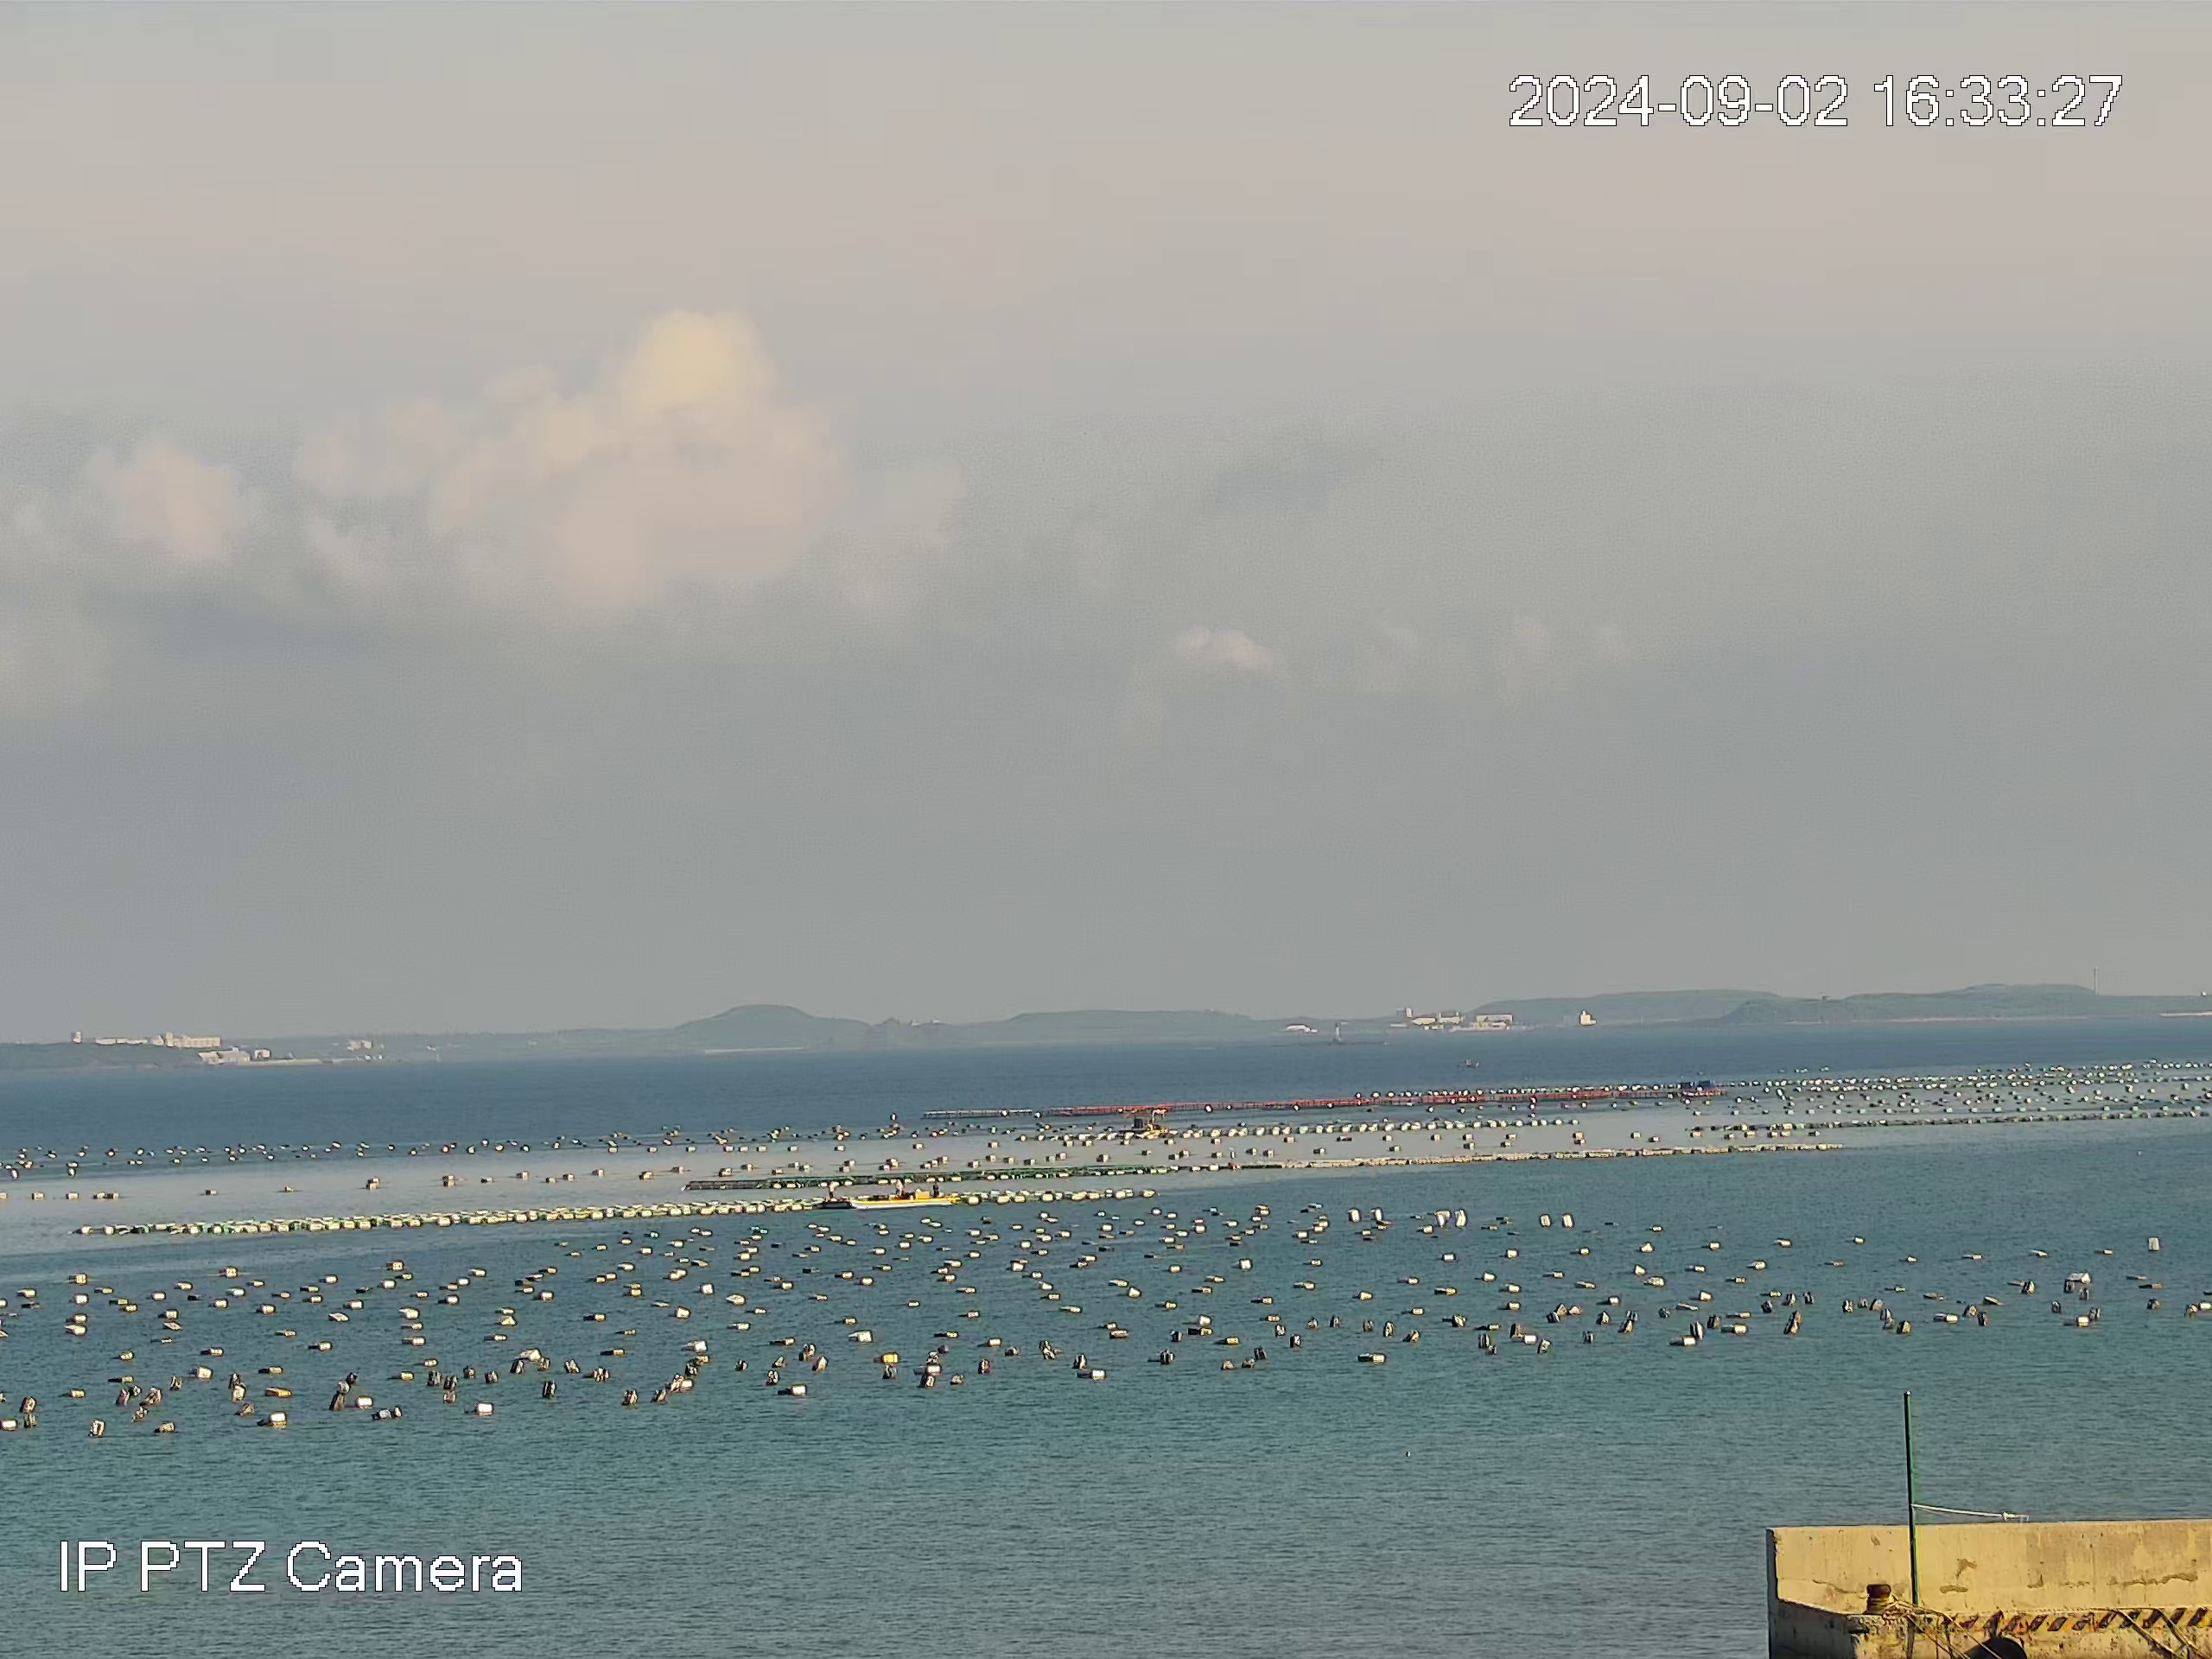boat: (848, 1178, 961, 1209)
